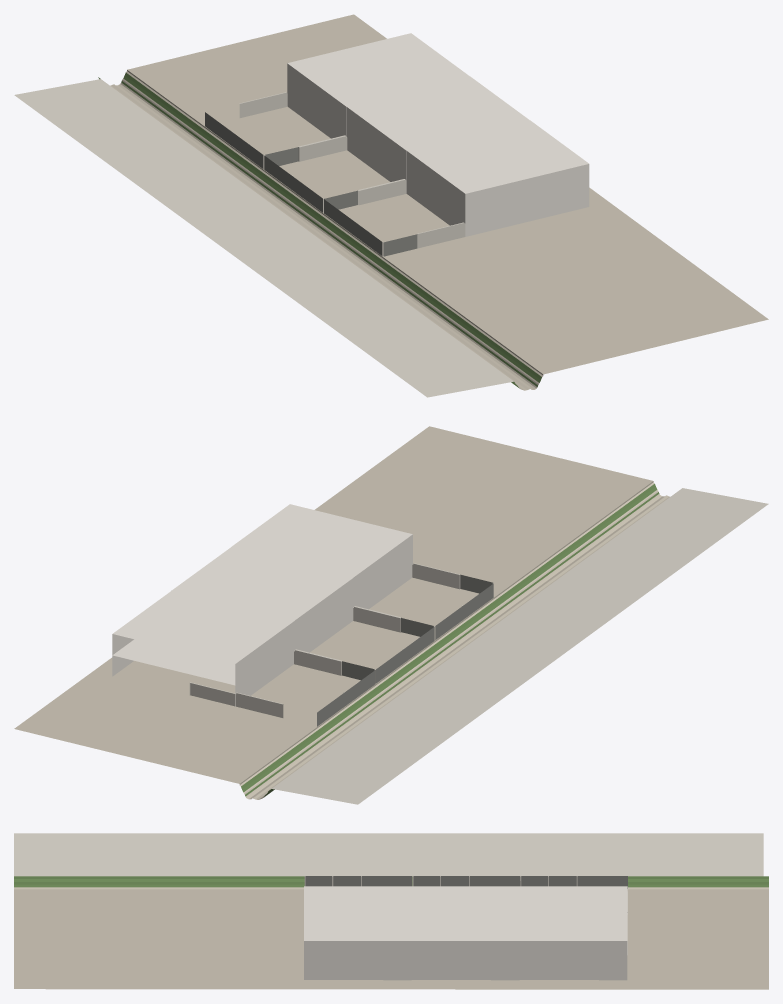
The picture shows the model from 3 angles, top to bottom: view 1: azimuth 30°, elevation 25°; view 2: azimuth 150°, elevation 25°; view 3: azimuth 270°, elevation 25°; orthographic projection. The views are drawn at different scales.
Parts seen in each view (by area): view 1: D0_suelo, entorno_cerco, D0_edif, entorno_suelo, D1_edif, D2_edif, entorno_seto, D2_suelo, D1_suelo, D0_seto, D0_cerco, D0_malla (+4 smaller); view 2: D0_suelo, entorno_cerco, D2_edif, entorno_suelo, D1_edif, D0_edif, D2_suelo, entorno_seto, D1_suelo, D2_cerco, D0_seto, D2_malla (+4 smaller); view 3: D0_suelo, entorno_cerco, D2_edif, D1_edif, D0_edif, entorno_suelo, entorno_seto, D2_malla, D1_malla, D0_malla.
Boxes of the visible parts, bbox=[...] form: D0_suelo: bbox=[126, 19, 747, 376]; entorno_cerco: bbox=[14, 79, 513, 397]; D0_edif: bbox=[406, 120, 589, 236]; entorno_suelo: bbox=[110, 14, 768, 390]; D1_edif: bbox=[346, 76, 529, 181]; D2_edif: bbox=[287, 33, 469, 138]; entorno_seto: bbox=[98, 75, 540, 388]; D2_suelo: bbox=[220, 106, 330, 166]; D1_suelo: bbox=[279, 150, 390, 198]; D0_seto: bbox=[124, 72, 541, 379]; D0_cerco: bbox=[352, 179, 465, 256]; D0_malla: bbox=[324, 199, 417, 256]; D0_suelo: bbox=[35, 431, 654, 786]; entorno_cerco: bbox=[272, 488, 768, 804]; D2_edif: bbox=[112, 590, 294, 706]; entorno_suelo: bbox=[14, 426, 669, 799]; D1_edif: bbox=[172, 547, 353, 652]; D0_edif: bbox=[231, 504, 412, 609]; D2_suelo: bbox=[112, 661, 360, 726]; entorno_seto: bbox=[242, 487, 659, 797]; D1_suelo: bbox=[310, 621, 419, 669]; D2_cerco: bbox=[189, 649, 375, 717]; D0_seto: bbox=[241, 484, 655, 789]; D2_malla: bbox=[317, 661, 375, 726]; D0_suelo: bbox=[14, 889, 768, 980]; entorno_cerco: bbox=[14, 833, 763, 876]; D2_edif: bbox=[519, 886, 627, 980]; D1_edif: bbox=[411, 886, 519, 980]; D0_edif: bbox=[304, 886, 411, 980]; entorno_suelo: bbox=[14, 887, 768, 989]; entorno_seto: bbox=[14, 876, 768, 887]; D2_malla: bbox=[520, 876, 627, 888]; D1_malla: bbox=[413, 876, 519, 886]; D0_malla: bbox=[305, 876, 411, 886].
Size of the model in its own units: 49.93 by 7.9 by 105.
